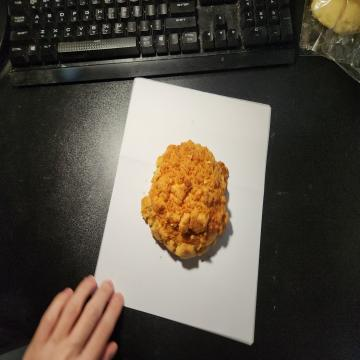soboru_bread: (139, 140, 230, 264)
